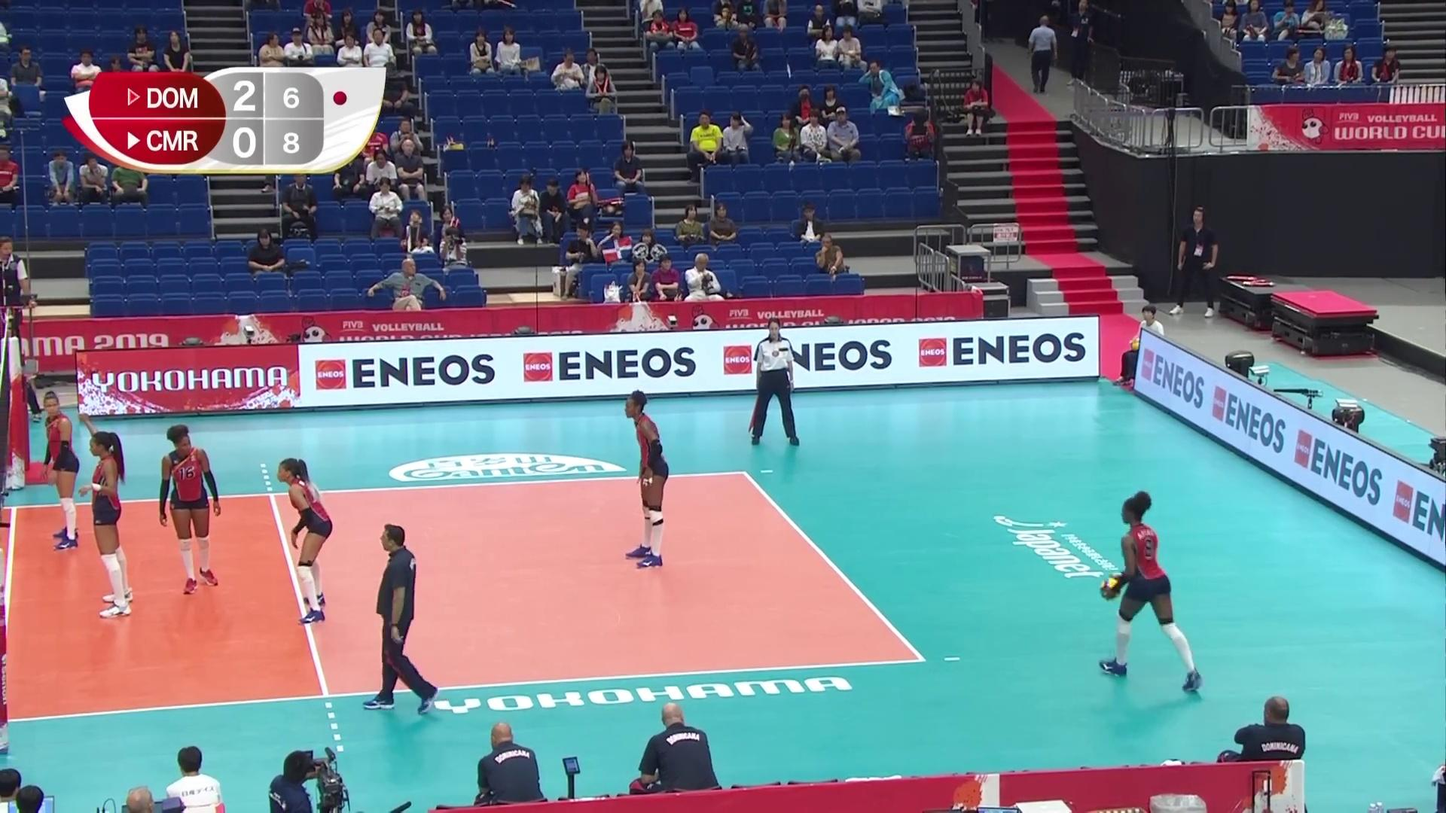player: (1094, 490, 1203, 692), (155, 424, 226, 594), (79, 424, 136, 617), (274, 458, 338, 623), (620, 392, 674, 569), (37, 391, 82, 555)
refree: (749, 321, 803, 448), (0, 236, 37, 365)
